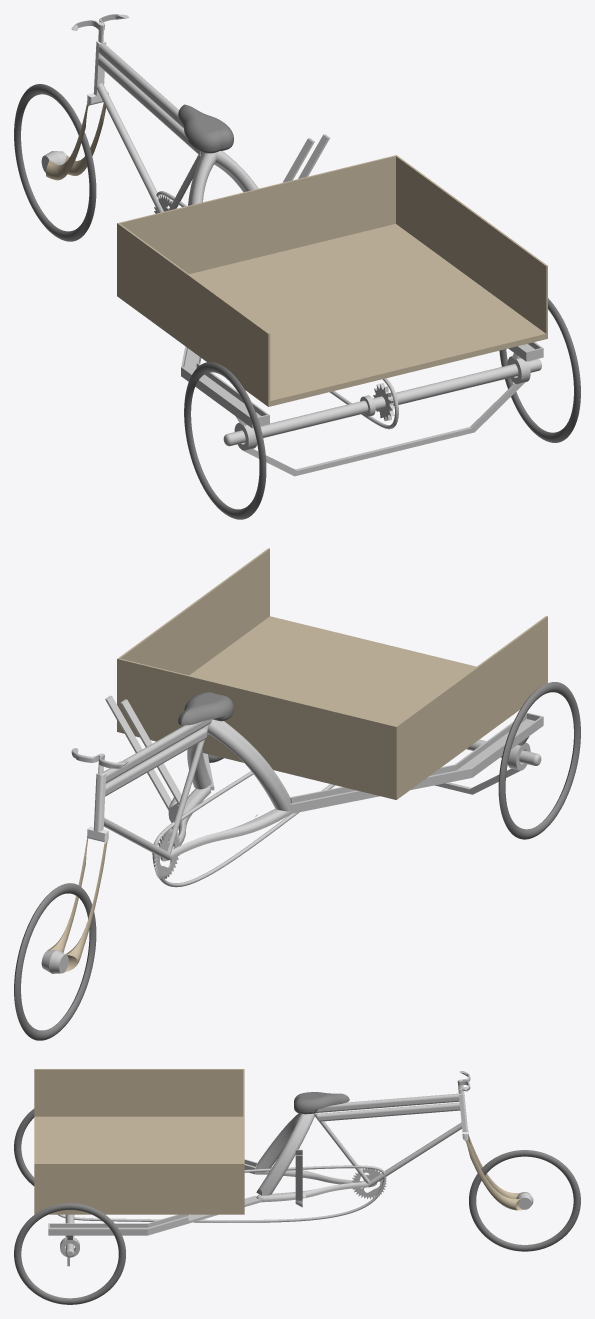
Rendered from generic-trike.glb.
3 renders of one model, top to bottom at view 1: azimuth 30°, elevation 25°; view 2: azimuth 150°, elevation 25°; view 3: azimuth 270°, elevation 25°, orthographic. The views are drawn at different scales.
Parts seen in each view (by area): view 1: Node3, Node1, Node2; view 2: Node3, Node1, Node2, Node4; view 3: Node3, Node1, Node2.
Boxes of the visible parts, x1=… form: Node3: x1=46, y1=103, x2=547, y2=406; Node1: x1=41, y1=14, x2=543, y2=476; Node2: x1=14, y1=84, x2=580, y2=519; Node3: x1=47, y1=548, x2=547, y2=972; Node1: x1=41, y1=695, x2=543, y2=973; Node2: x1=14, y1=682, x2=580, y2=1040; Node4: x1=87, y1=772, x2=108, y2=842; Node3: x1=34, y1=1069, x2=524, y2=1214; Node1: x1=48, y1=1071, x2=533, y2=1266; Node2: x1=14, y1=1092, x2=580, y2=1304.
Size of the model in its own units: 183 by 135 by 405.
